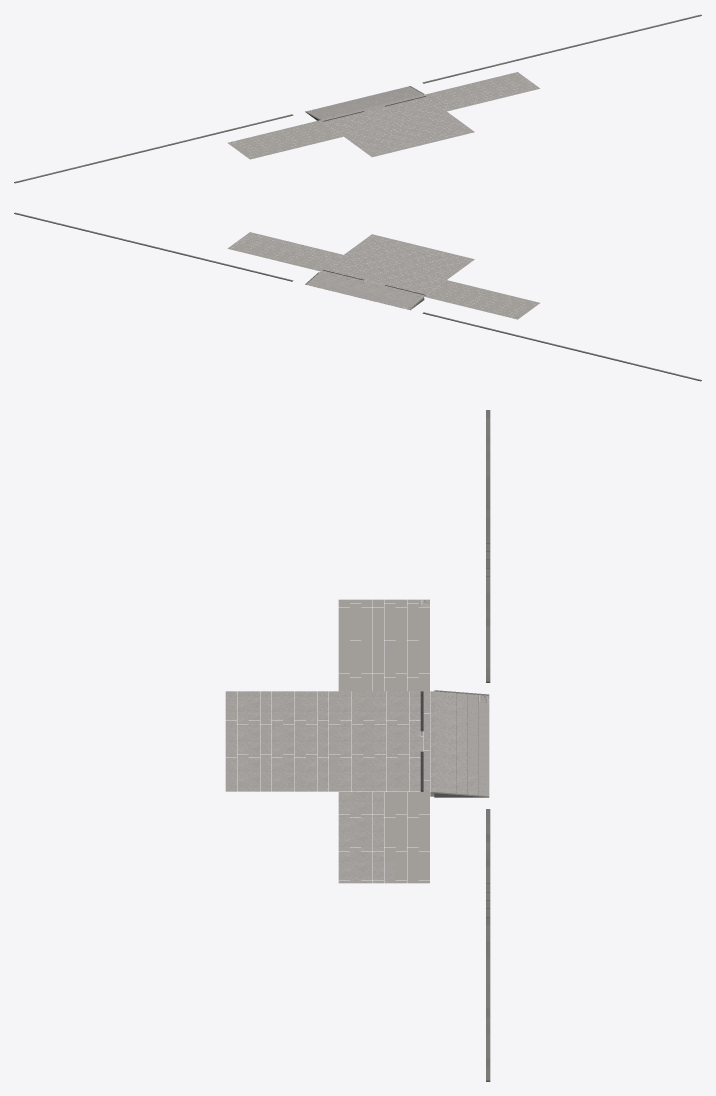
File: zijin-forecourt-t3.glb
3 views of the same model, one above another, from view 1: azimuth 30°, elevation 25°; view 2: azimuth 150°, elevation 25°; view 3: azimuth 270°, elevation 25° (orthographic). The views are drawn at different scales.
Parts seen in each view (by area): view 1: T3_Portico_Paving, T3_Grass_Edge, T3_Transition; view 2: T3_Portico_Paving, T3_Transition, T3_Grass_Edge; view 3: T3_Portico_Paving, T3_Transition, T3_Grass_Edge.
Boxes of the visible parts, x1,y1,x2,y2 form: T3_Portico_Paving: (227, 72, 539, 159); T3_Grass_Edge: (14, 14, 701, 183); T3_Transition: (306, 86, 423, 119); T3_Portico_Paving: (227, 232, 539, 319); T3_Transition: (306, 271, 423, 309); T3_Grass_Edge: (14, 212, 701, 381); T3_Portico_Paving: (225, 599, 429, 883); T3_Transition: (430, 691, 489, 796); T3_Grass_Edge: (434, 410, 490, 1081).
Size of the model in its own units: 80.59 by 0.287 by 13.43.
Materials: 4 (1 with a texture image).
